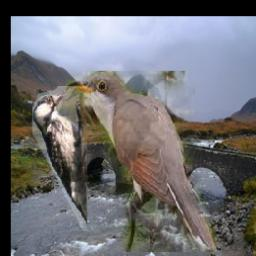Cuckoo: (66, 72, 217, 253)
Woodpecker: (32, 87, 87, 232)
